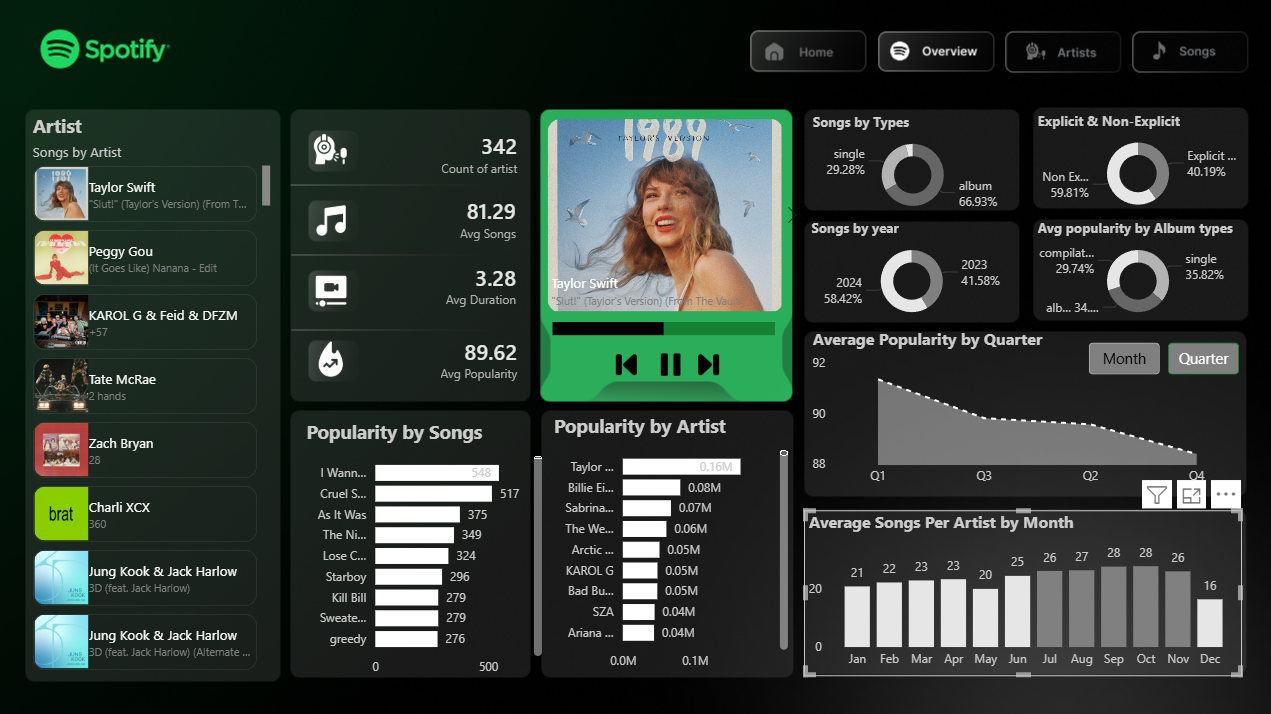

What the dashboard file says about the page in this screenshot:
{"tool":"powerbi","page":{"name":"Overview","canvas":[1280,720],"ordinal":1},"visuals":[{"type":"clusteredBarChart","title":"Popularity by Songs","fields":{"Y":["_Measures.Average Songs Per Artist"],"Category":["spotify-top-50-world.song"]},"box":[299,412,245,266],"z":0},{"type":"advancedSlicerVisual","title":"Artist","fields":{"Values":["spotify-top-50-world.song"]},"box":[35,113.8,263.8,567.5],"z":1000},{"type":"areaChart","fields":{"Category":["spotify-top-50-world.Month"],"Y":["_Measures.Average Popularity"]},"box":[813.1,328.2,436.7,166.5],"z":2000},{"type":"advancedSlicerVisual","fields":{"Values":["slice_option.slice_option"]},"box":[1090,339,160,42],"z":3000},{"type":"donutChart","title":"Songs by Types","fields":{"Y":["_Measures.Average Songs Per Artist"],"Category":["spotify-top-50-world.album_type"]},"box":[813.2,113.3,210.5,107.1],"z":4000},{"type":"donutChart","title":"Explicit & Non-Explicit ","fields":{"Y":["_Measures.Explicit Songs","_Measures.Non Explicit Songs"]},"box":[1039,113,211,107],"z":5000},{"type":"donutChart","title":"Songs by year","fields":{"Category":["spotify-top-50-world.date.Variation.Date Hierarchy.Year"],"Y":["_Measures.Average Songs Per Artist"]},"box":[813,220,211,107],"z":6000},{"type":"donutChart","title":"Avg popularity by Album types ","fields":{"Y":["_Measures.Average Popularity"],"Category":["spotify-top-50-world.album_type"]},"box":[1039,220,211,107],"z":7000},{"type":"columnChart","fields":{"Category":["spotify-top-50-world.Month"],"Y":["_Measures.Average Songs Per Artist"]},"box":[810,511,437,167],"z":8000},{"type":"cardVisual","fields":{"Data":["Count(spotify-top-50-world.artist)"]},"box":[421.7,111.7,120,86.7],"z":9000},{"type":"cardVisual","fields":{"Data":["_Measures.Average Songs Per Artist"]},"box":[420,176.7,120,86.7],"z":10000},{"type":"cardVisual","fields":{"Data":["_Measures.Average Duration (Minutes)"]},"box":[420,243.3,120,85],"z":11000},{"type":"cardVisual","fields":{"Data":["_Measures.Average Popularity"]},"box":[421.7,316.7,120,88.3],"z":12000},{"type":"image","box":[307,274,59,37],"z":13000},{"type":"image","box":[317,206,39,30],"z":14000},{"type":"image","box":[317,343,49,35],"z":15000},{"type":"image","box":[318,134,38,33],"z":16000},{"type":"advancedSlicerVisual","title":"Artist","fields":{"Values":["spotify-top-50-world.song"]},"box":[526.2,111.2,287.5,205],"z":17000},{"type":"hundredPercentStackedBarChart","fields":{"Y":["_Measures.Average Popularity","Avg(spotify-top-50-world.popularity)"]},"box":[553.8,292.5,232.5,67.5],"z":18000},{"type":"image","box":[607.5,347.5,40,30],"z":19000},{"type":"image","box":[698.8,347.5,40,30],"z":20000},{"type":"image","box":[647.5,345.4,51.2,38.8],"z":21000},{"type":"clusteredBarChart","title":"Popularity by Artist","fields":{"Y":["Sum(spotify-top-50-world.popularity)"],"Category":["spotify-top-50-world.artist"]},"box":[546,412,244,266],"z":22000},{"type":"actionButton","box":[756,31,116,42],"z":23000},{"type":"actionButton","box":[886,33,114,40],"z":24000},{"type":"actionButton","box":[1014,33,114,40],"z":25000},{"type":"actionButton","box":[1142,33,114,40],"z":26000}]}

Visuals, with their boxes in screenshot pixels (x1, y1, x2, y2), scaled from the page's 1280x720 canvas onto the 1271x714 screenshot:
"Popularity by Songs" clusteredBarChart: bbox=(297, 409, 540, 672)
"Artist" advancedSlicerVisual: bbox=(35, 113, 297, 676)
areaChart - spotify-top-50-world.Month x _Measures.Average Popularity: bbox=(807, 325, 1241, 491)
advancedSlicerVisual - slice_option.slice_option: bbox=(1082, 336, 1241, 378)
"Songs by Types" donutChart: bbox=(807, 112, 1017, 219)
"Explicit & Non-Explicit " donutChart: bbox=(1032, 112, 1241, 218)
"Songs by year" donutChart: bbox=(807, 218, 1017, 324)
"Avg popularity by Album types " donutChart: bbox=(1032, 218, 1241, 324)
columnChart - spotify-top-50-world.Month x _Measures.Average Songs Per Artist: bbox=(804, 507, 1238, 672)
cardVisual - Count(spotify-top-50-world.artist): bbox=(419, 111, 538, 197)
cardVisual - _Measures.Average Songs Per Artist: bbox=(417, 175, 536, 261)
cardVisual - _Measures.Average Duration (Minutes): bbox=(417, 241, 536, 326)
cardVisual - _Measures.Average Popularity: bbox=(419, 314, 538, 402)
image: bbox=(305, 272, 363, 308)
image: bbox=(315, 204, 353, 234)
image: bbox=(315, 340, 363, 375)
image: bbox=(316, 133, 353, 166)
"Artist" advancedSlicerVisual: bbox=(523, 110, 808, 314)
hundredPercentStackedBarChart - _Measures.Average Popularity x Avg(spotify-top-50-world.popularity): bbox=(550, 290, 781, 357)
image: bbox=(603, 345, 643, 374)
image: bbox=(694, 345, 734, 374)
image: bbox=(643, 343, 694, 381)
"Popularity by Artist" clusteredBarChart: bbox=(542, 409, 784, 672)
actionButton: bbox=(751, 31, 866, 72)
actionButton: bbox=(880, 33, 993, 72)
actionButton: bbox=(1007, 33, 1120, 72)
actionButton: bbox=(1134, 33, 1247, 72)
